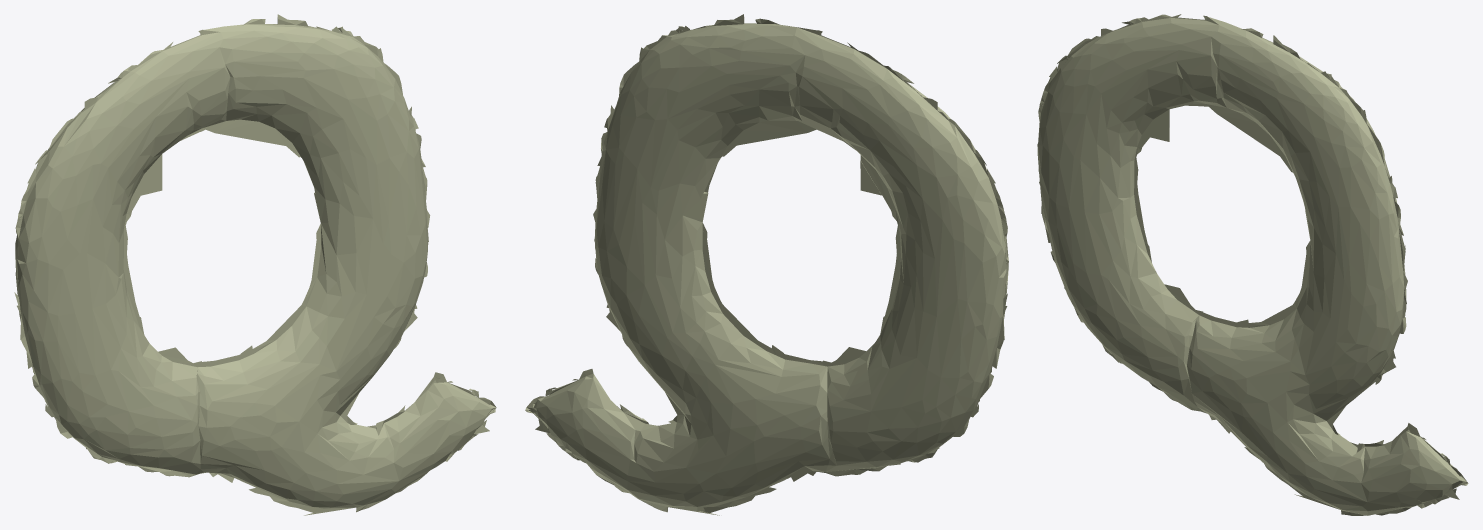
File: tinker.obj
3 views of the same model, side by side, from view 1: azimuth 30°, elevation 25°; view 2: azimuth 150°, elevation 25°; view 3: azimuth 330°, elevation 25° (orthographic). The views are drawn at different scales.
Parts seen in each view (by area): view 1: obj_0; view 2: obj_0; view 3: obj_0.
Part boxes in pixels (x1,y1,x2,y2): obj_0: (14,14,496,515); obj_0: (525,14,1008,515); obj_0: (1037,14,1468,515).
Bounding box in the file's own units: 15.69 × 16.16 × 1.47.
